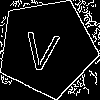V: (22, 23, 62, 72)
